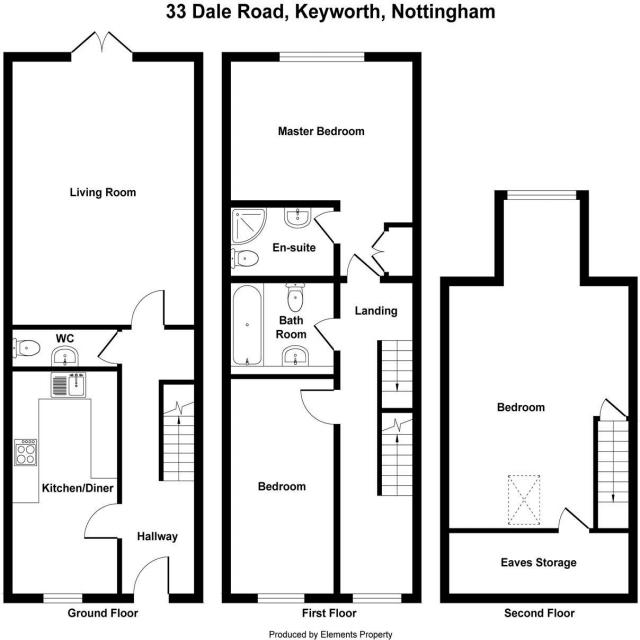DOOR: (130, 553, 172, 603), (80, 499, 124, 543), (298, 386, 341, 427), (310, 310, 341, 366), (129, 286, 168, 329), (93, 324, 125, 366), (344, 250, 382, 284), (310, 210, 341, 247), (556, 503, 593, 533)
ROOM: (439, 188, 638, 533), (2, 22, 203, 331), (221, 52, 422, 283), (3, 366, 123, 603), (221, 372, 341, 604)
WINDOW: (278, 50, 366, 64), (506, 187, 578, 203), (351, 592, 402, 605), (256, 592, 306, 604), (41, 591, 83, 605)
